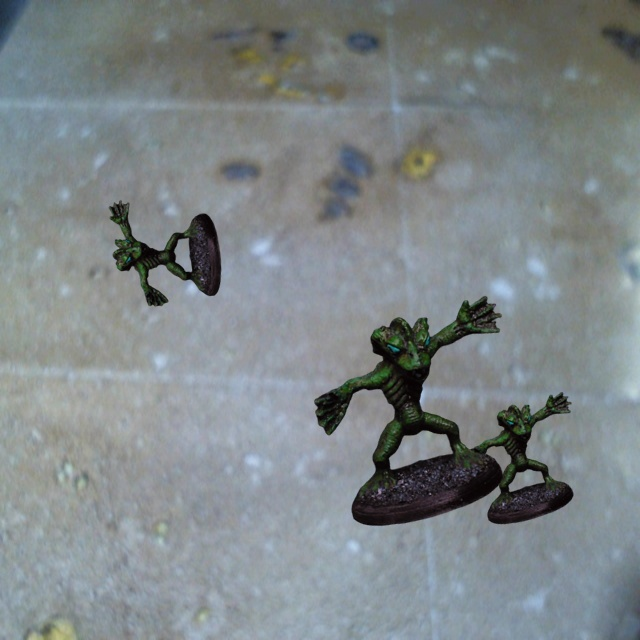pieza_juego: (314, 296, 502, 525), (465, 392, 573, 523), (109, 200, 220, 306)
